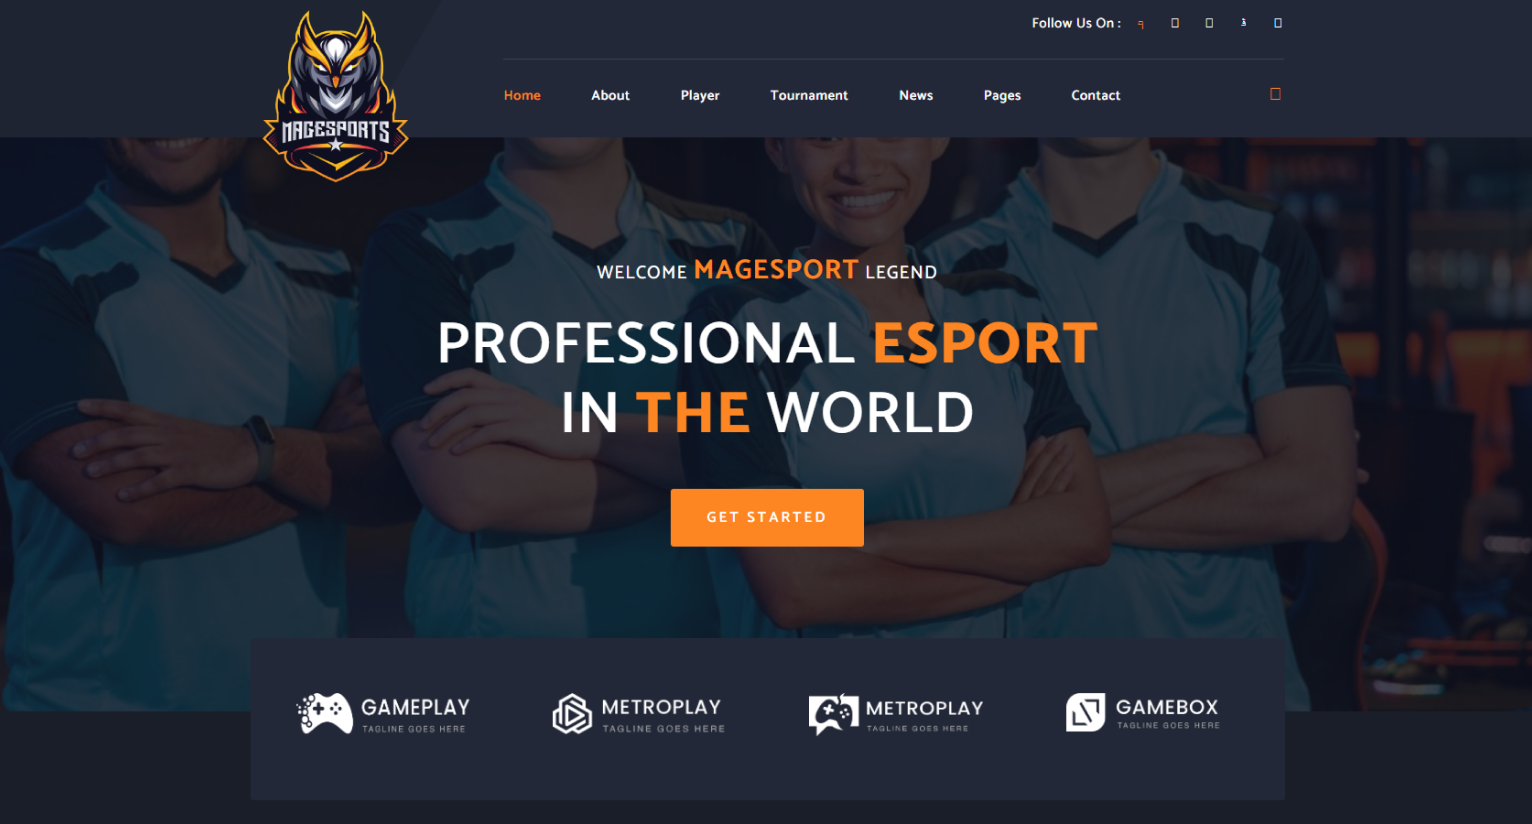menu: (17, 9, 1519, 202)
